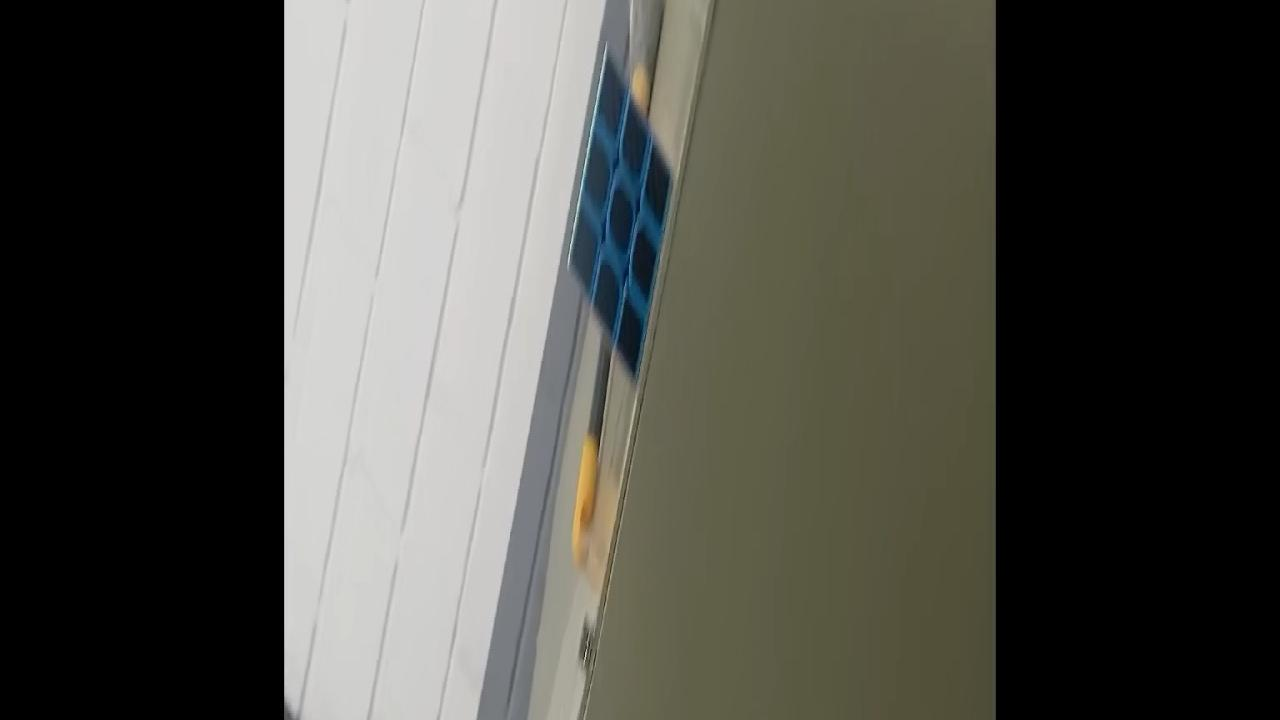Cube: (566, 42, 674, 386)
